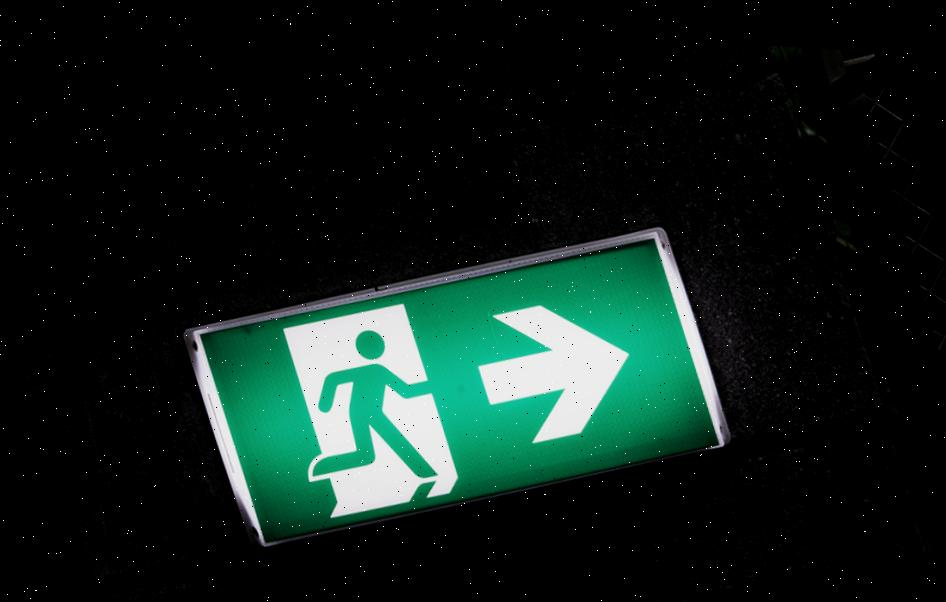emergency_exit: (183, 226, 732, 548)
